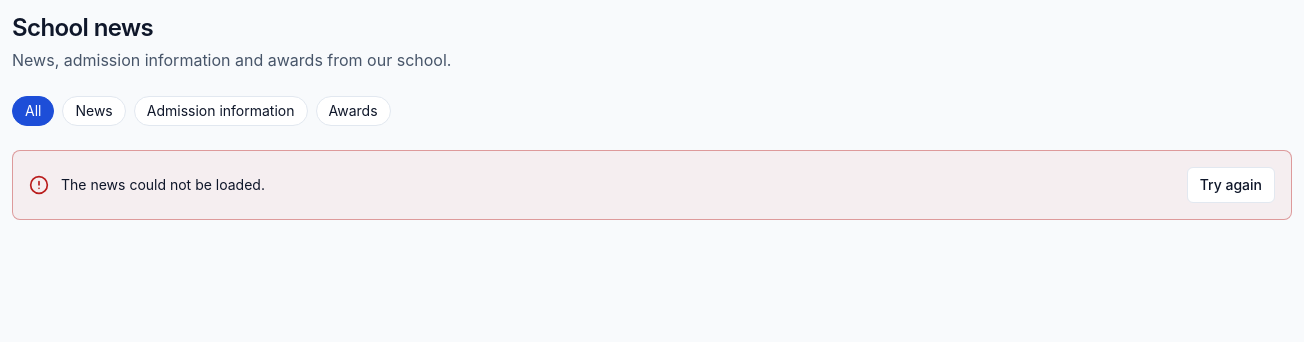
PublicNewsListPage › offers a retry when the news cannot be loaded
The width and height of the screenshot is (1304, 342).
expect the text "The news could not be loaded." is shown: met, box x1=61 y1=176 x2=265 y2=193
Click the button "Try again": point(1231, 185) x1=1187 y1=167 x2=1275 y2=203
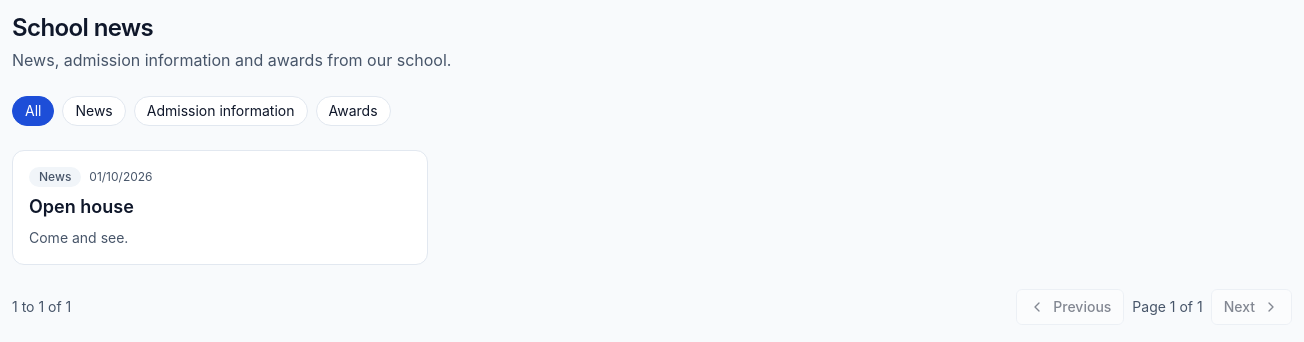
expect the text "Come and see." is shown: met, box x1=29 y1=229 x2=128 y2=246
